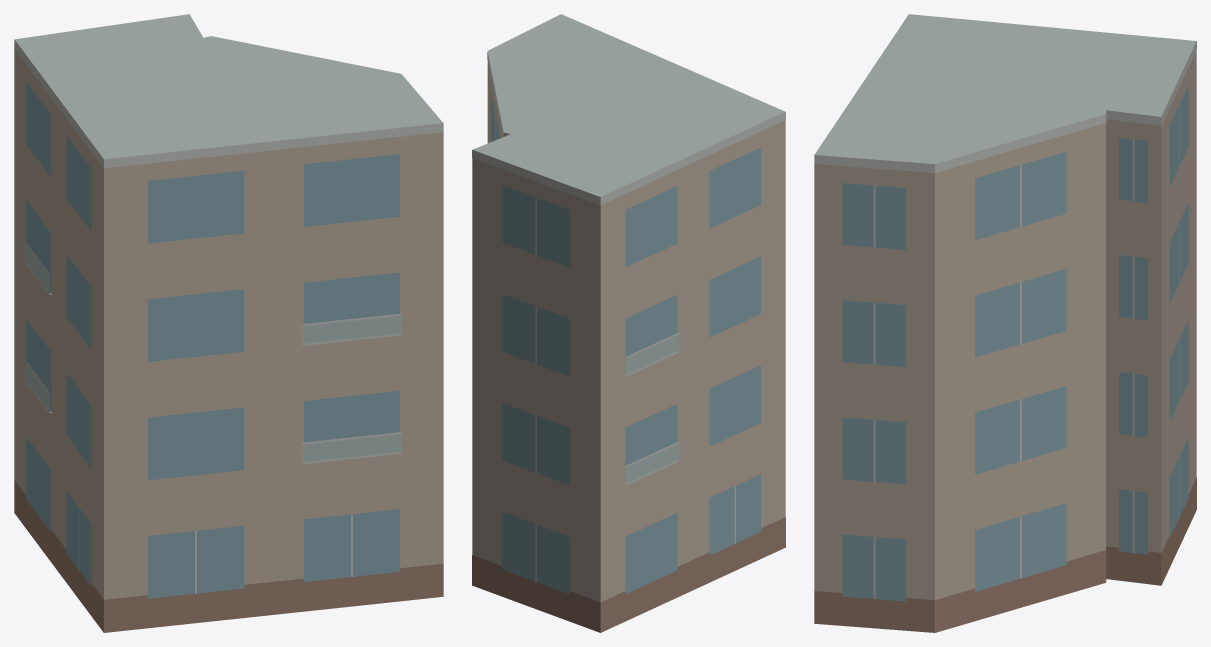
Rendered from survey-upis-32506306.glb.
3 views of the same model, side by side, from view 1: azimuth 30°, elevation 25°; view 2: azimuth 150°, elevation 25°; view 3: azimuth 270°, elevation 25° (orthographic). The views are drawn at different scales.
Parts seen in each view (by area): view 1: survey-upis-32506306.tmp; view 2: survey-upis-32506306.tmp; view 3: survey-upis-32506306.tmp.
Boxes of the visible parts, bbox=[...] form: survey-upis-32506306.tmp: bbox=[14, 14, 443, 632]; survey-upis-32506306.tmp: bbox=[472, 14, 785, 632]; survey-upis-32506306.tmp: bbox=[814, 14, 1196, 632].
Bounding box in the file's own units: 8.8 × 12.8 × 9.48.
